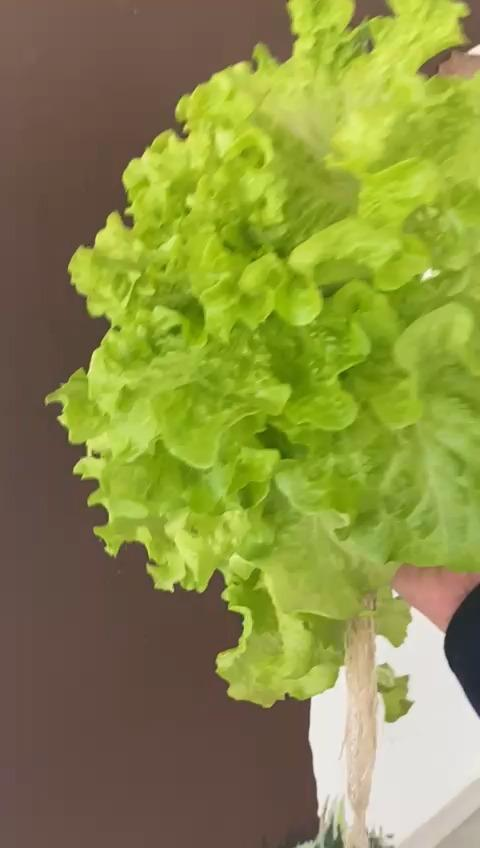Healthy Lettuce: (45, 0, 480, 718)
